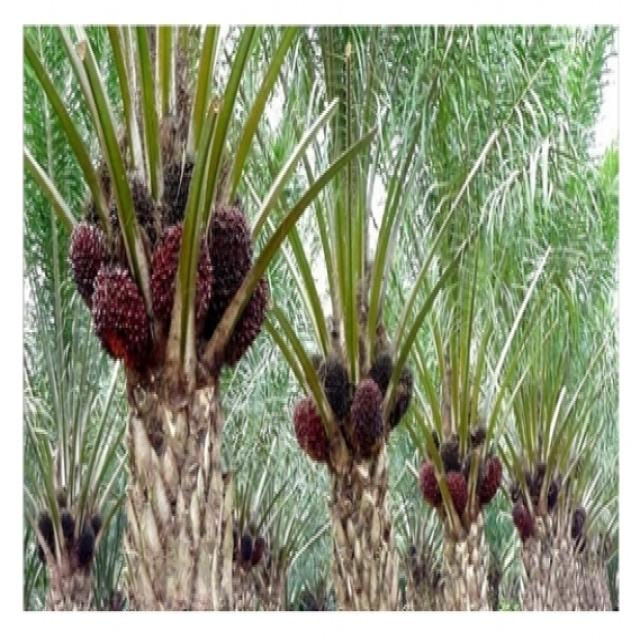FFB: (151, 221, 213, 331), (94, 269, 148, 382), (203, 201, 258, 299), (346, 367, 386, 460), (63, 220, 109, 300), (369, 359, 420, 429), (290, 389, 327, 464), (317, 352, 350, 424), (477, 447, 502, 509), (416, 462, 444, 515), (443, 466, 468, 521), (512, 504, 536, 549)
